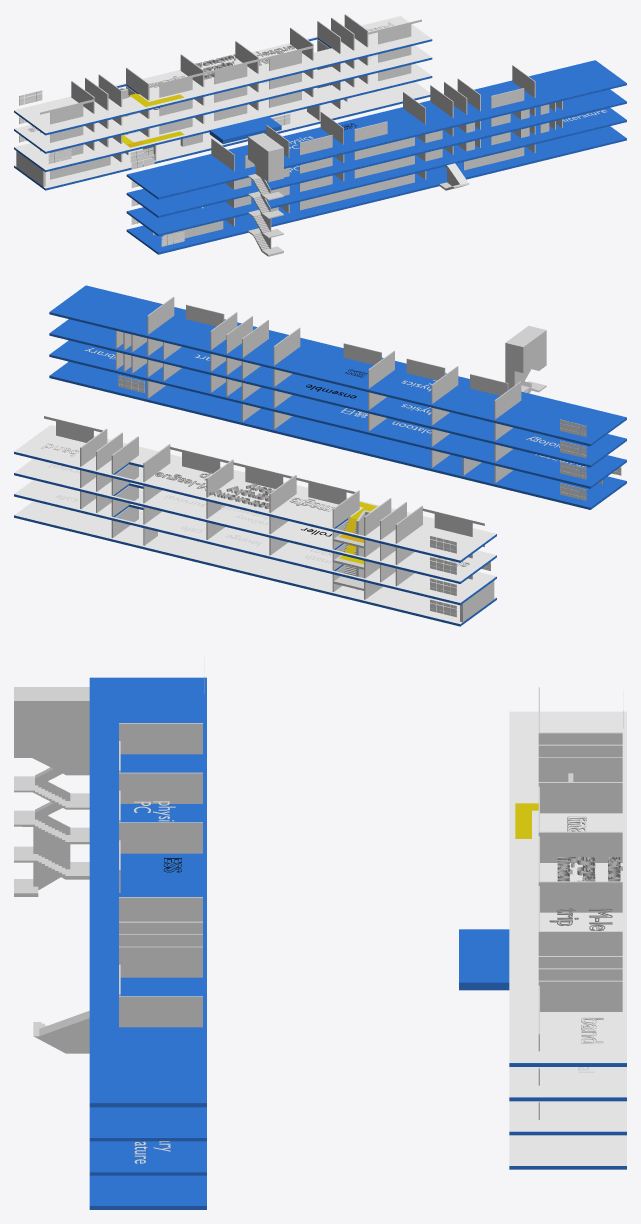
File: map.glb
3 views of the same model, one above another, from view 1: azimuth 30°, elevation 25°; view 2: azimuth 150°, elevation 25°; view 3: azimuth 270°, elevation 25° (orthographic). The views are drawn at different scales.
Parts seen in each view (by area): view 1: floor S 4F, floor 4F, floor S 3F, floor S 2F, floor S 1F, floor 3F, floor 2F, floor 1F, Str S 4F, wall HomeRoom~HomeRoom.002, ceiling Gate.001, wall 1C~1C (+35 smaller); view 2: floor S 4F, floor S 1F, floor S 2F, floor S 3F, floor 4F, floor 1F, floor 2F, floor 3F, Str S 4F, 天文 地歴, wall Civics~Civics, wall 1D~1D (+26 smaller); view 3: floor S 4F, floor 4F, Str S 4F, floor 1F, floor S 3F, floor S 1F, floor 2F, floor 3F, floor S 2F, ceiling Gate.001, Str S 1F, wall 1A~Out.001 (+21 smaller).
Boxes of the visible parts, bbox=[...] form: floor S 4F: bbox=[126, 60, 626, 199]; floor 4F: bbox=[14, 16, 432, 135]; floor S 3F: bbox=[126, 89, 626, 217]; floor S 2F: bbox=[126, 108, 626, 236]; floor S 1F: bbox=[126, 126, 626, 254]; floor 3F: bbox=[14, 45, 432, 153]; floor 2F: bbox=[14, 63, 432, 172]; floor 1F: bbox=[14, 82, 430, 190]; Str S 4F: bbox=[248, 133, 283, 200]; wall HomeRoom~HomeRoom.002: bbox=[299, 174, 414, 210]; ceiling Gate.001: bbox=[209, 116, 281, 143]; wall 1C~1C: bbox=[204, 59, 257, 84]; floor S 4F: bbox=[49, 285, 626, 446]; floor S 1F: bbox=[49, 361, 626, 509]; floor S 2F: bbox=[49, 340, 626, 488]; floor S 3F: bbox=[49, 319, 626, 467]; floor 4F: bbox=[14, 425, 496, 562]; floor 1F: bbox=[14, 501, 496, 626]; floor 2F: bbox=[14, 480, 496, 605]; floor 3F: bbox=[14, 459, 496, 583]; Str S 4F: bbox=[505, 326, 546, 392]; 天文 地歴: bbox=[209, 483, 274, 508]; wall Civics~Civics: bbox=[422, 508, 484, 536]; wall 1D~1D: bbox=[296, 477, 355, 504]; floor S 4F: bbox=[89, 677, 206, 1107]; floor 4F: bbox=[509, 711, 626, 1066]; Str S 4F: bbox=[14, 687, 89, 792]; floor 1F: bbox=[509, 1135, 626, 1169]; floor S 3F: bbox=[89, 1107, 206, 1141]; floor S 1F: bbox=[89, 1175, 206, 1209]; floor 2F: bbox=[509, 1101, 626, 1135]; floor 3F: bbox=[509, 1067, 626, 1101]; floor S 2F: bbox=[89, 1141, 206, 1175]; ceiling Gate.001: bbox=[459, 929, 509, 990]; Str S 1F: bbox=[33, 842, 89, 1053]; wall 1A~Out.001: bbox=[119, 996, 202, 1027].
Size of the model in its own units: 90 by 21 by 54.75.
